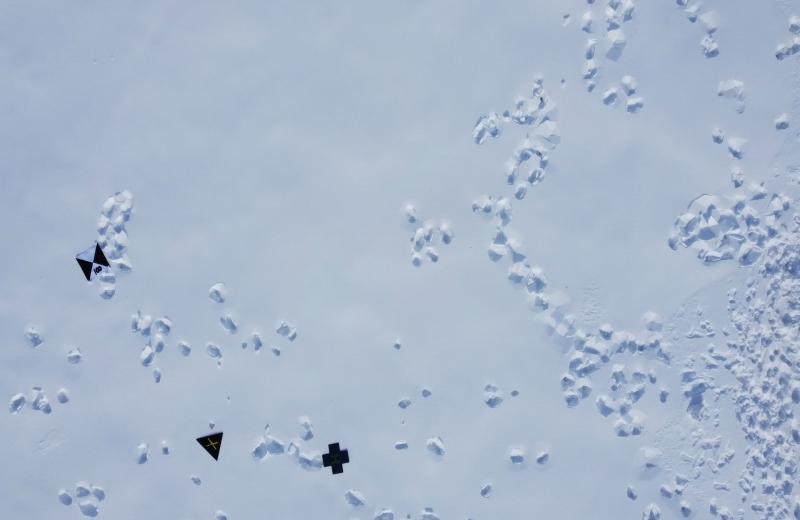Cross: (319, 439, 352, 477)
Triangle: (194, 428, 226, 466)
